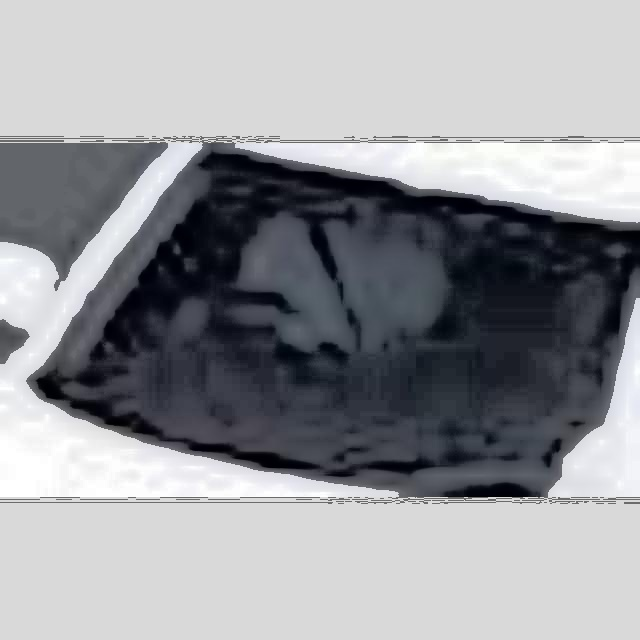pakai: (242, 186, 441, 377)
